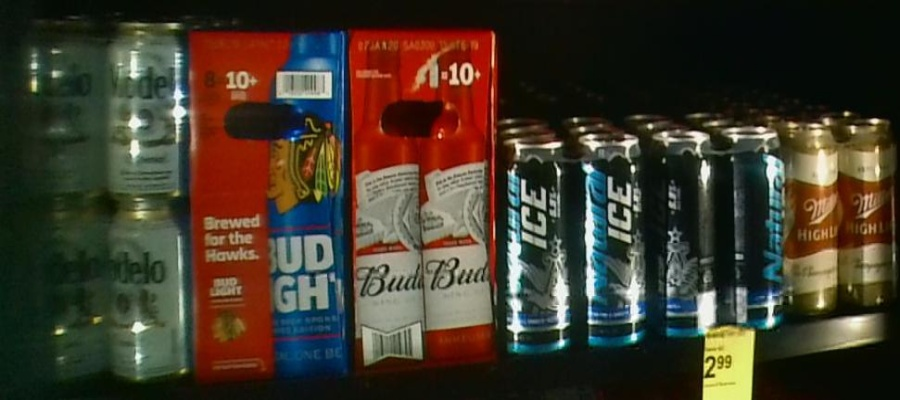bottle: (17, 17, 189, 386), (192, 28, 348, 376), (348, 28, 497, 367), (506, 138, 649, 351), (653, 133, 786, 334), (791, 126, 896, 316)
